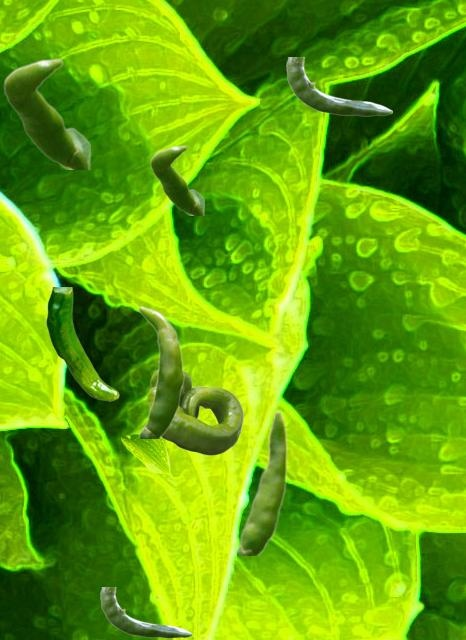green_chili: (3, 58, 89, 168), (46, 287, 118, 400), (147, 370, 242, 454), (237, 409, 287, 554), (137, 305, 184, 437), (286, 57, 391, 115), (100, 587, 191, 637), (150, 145, 203, 214)
